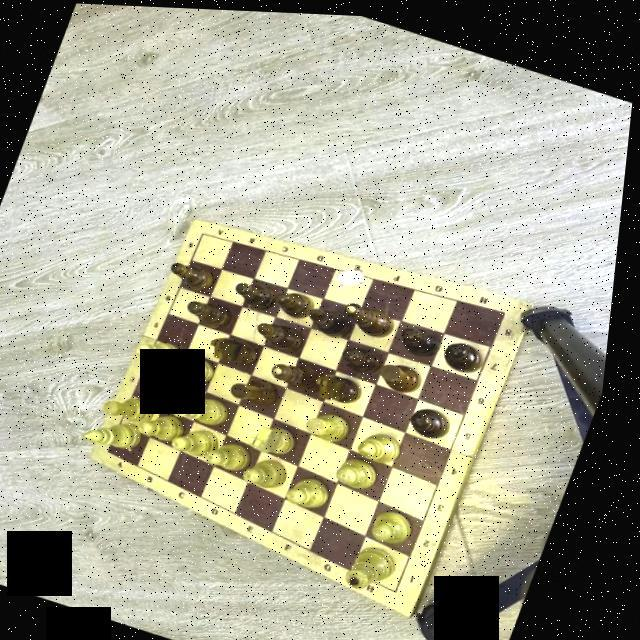chess-table-corners: (502, 302, 516, 313), (400, 581, 412, 593), (111, 444, 123, 454), (201, 227, 212, 236)
